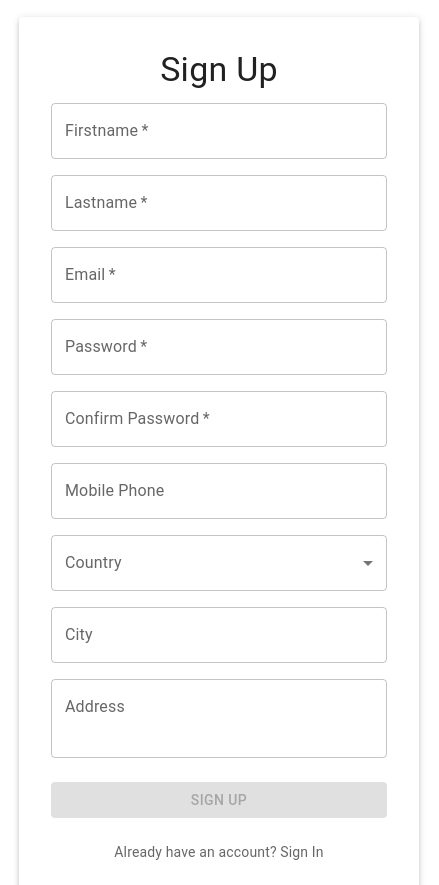
Test: RegisterForm › should show firstname error when firstname is empty after blur
Click the field labelled "Firstname *" at (219, 131), box x1=51 y1=103 x2=387 y2=159
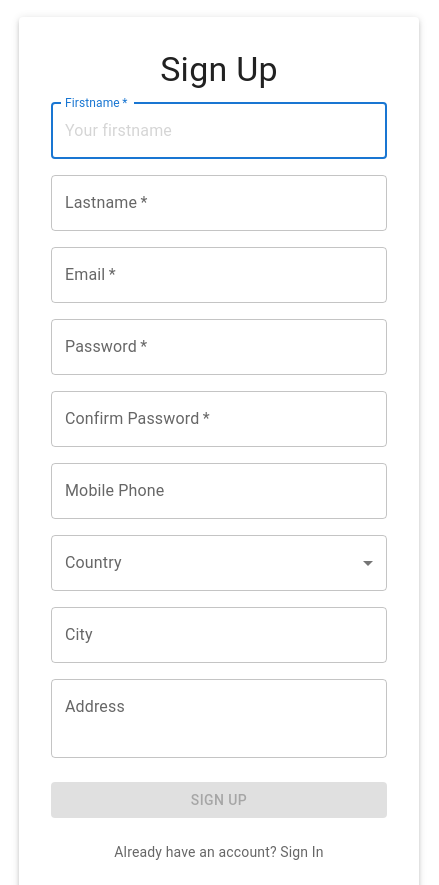
Press Tab
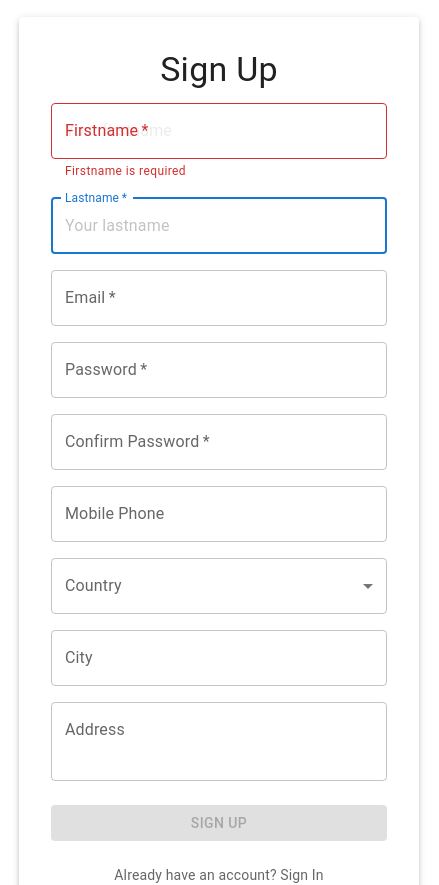
Check: the text "Firstname is required" is shown, box x1=65 y1=164 x2=186 y2=178
